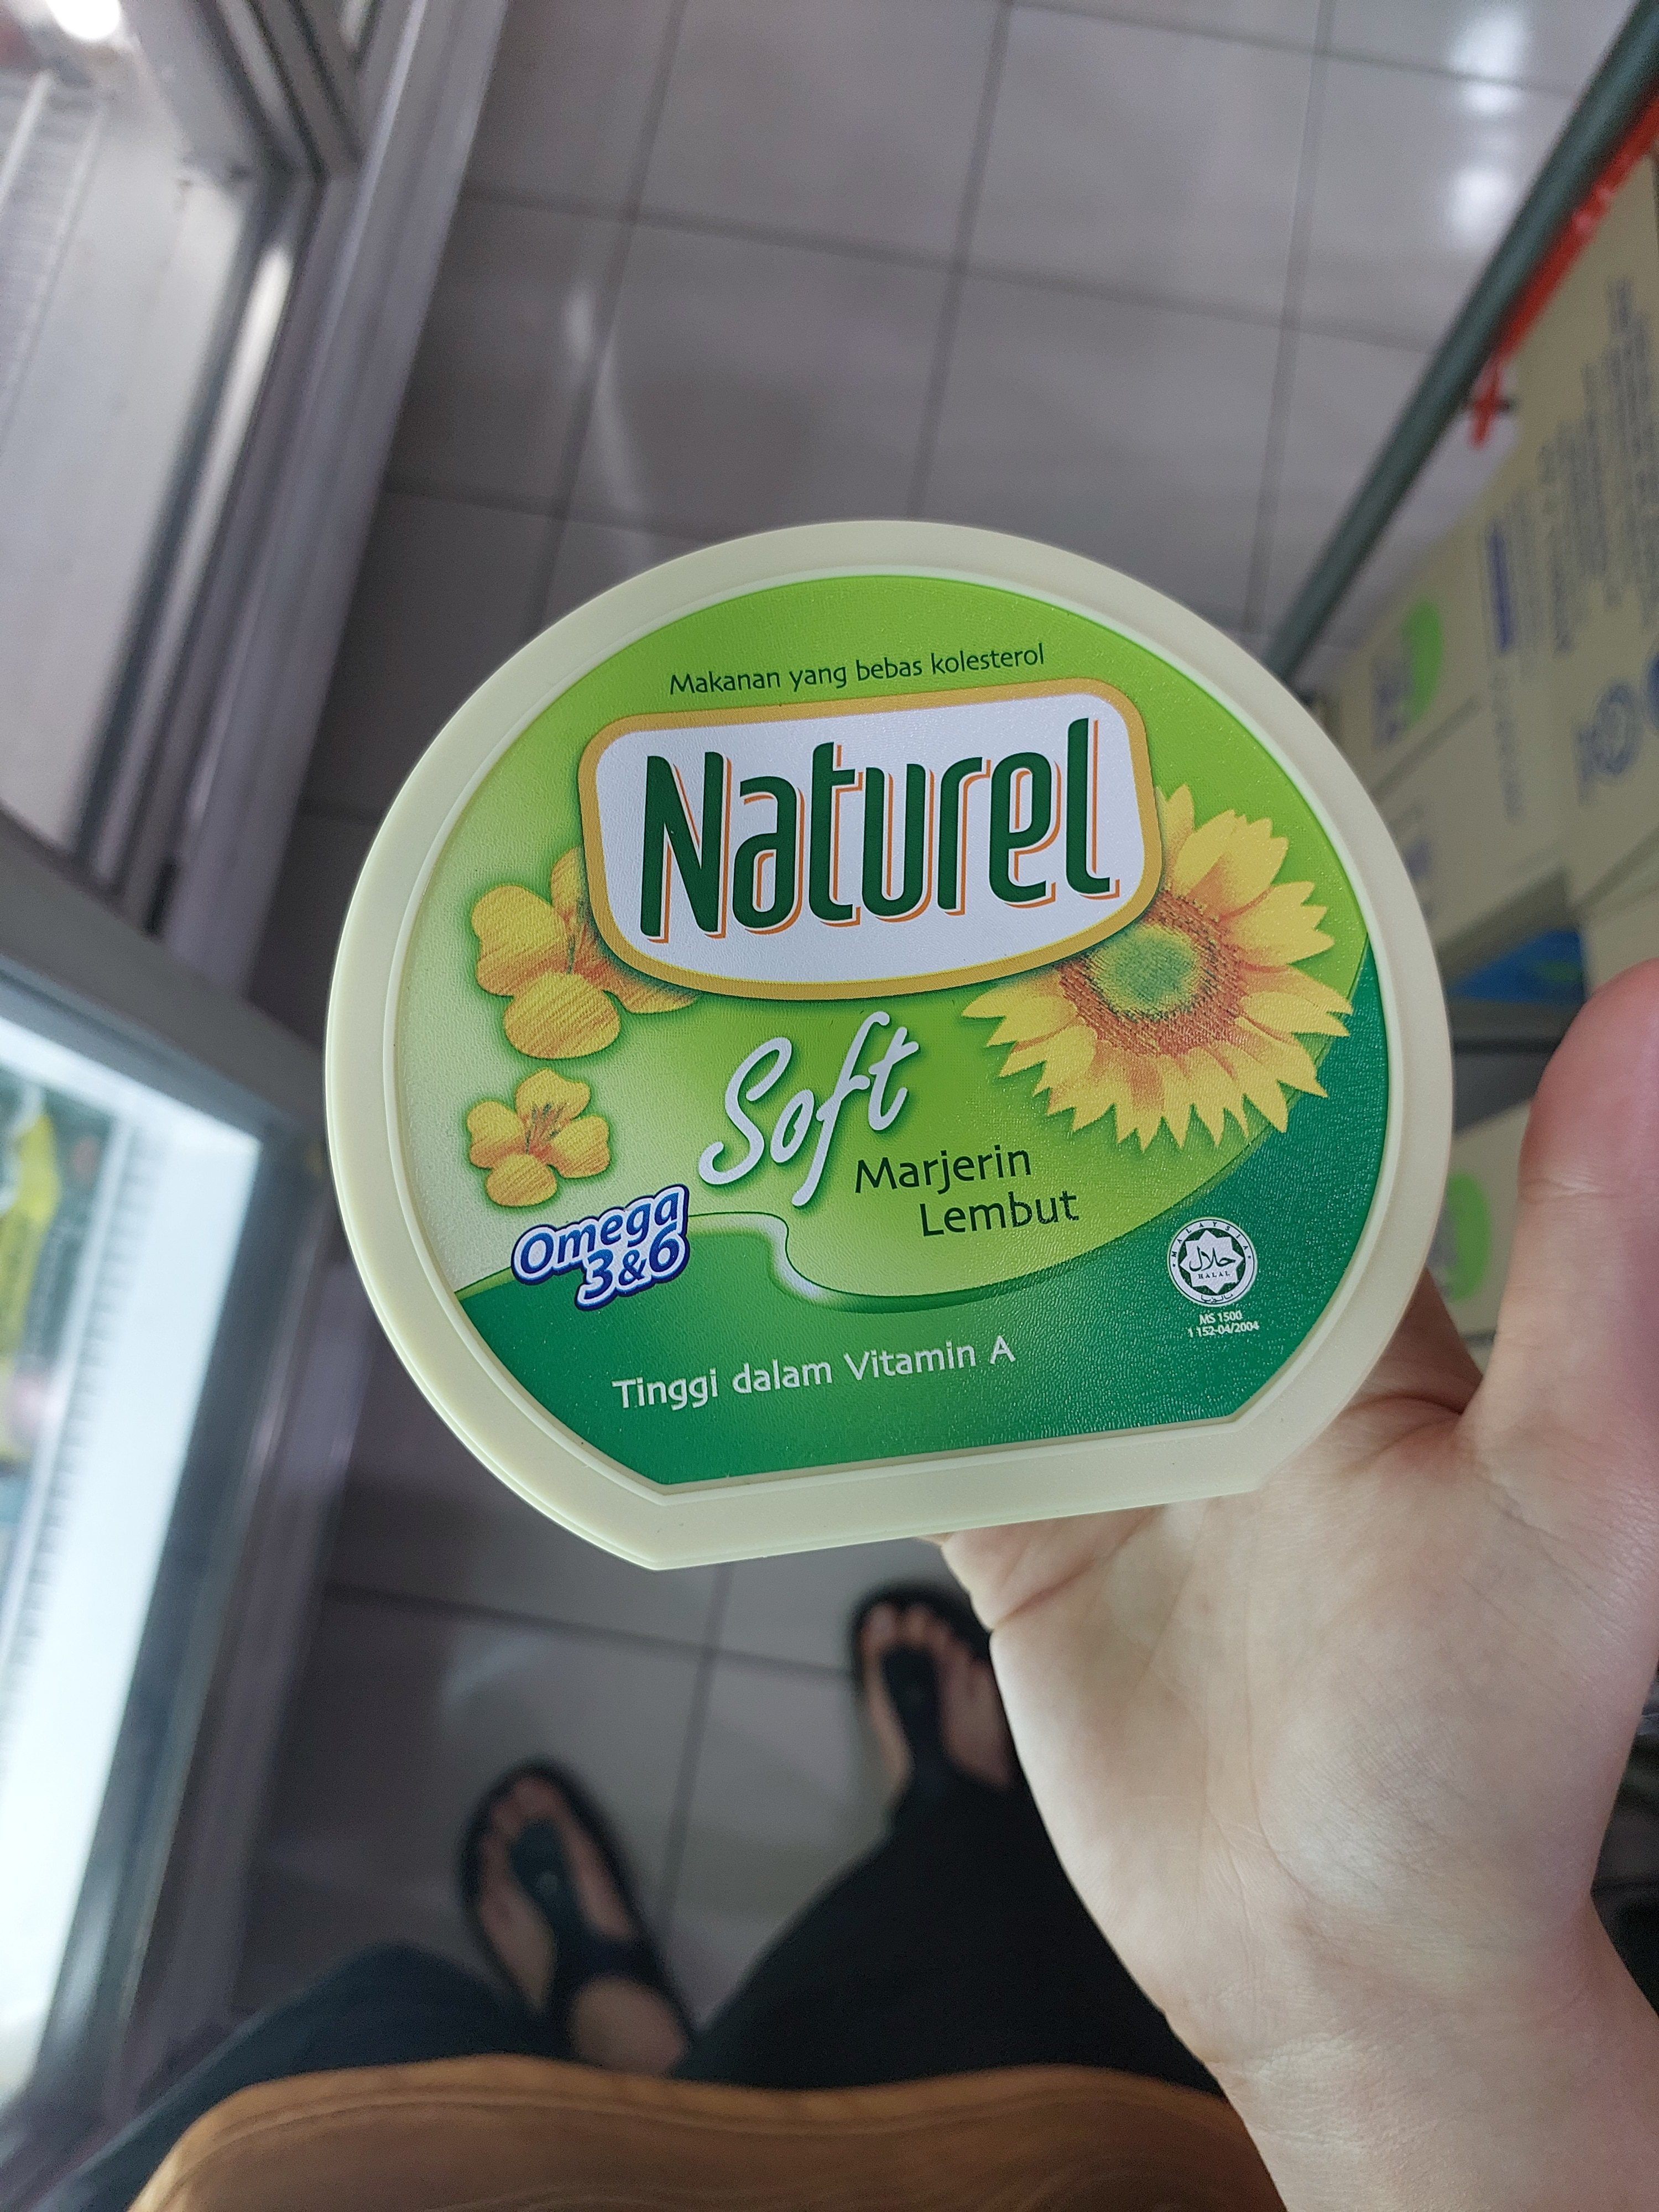butter: (321, 517, 1467, 1580)
